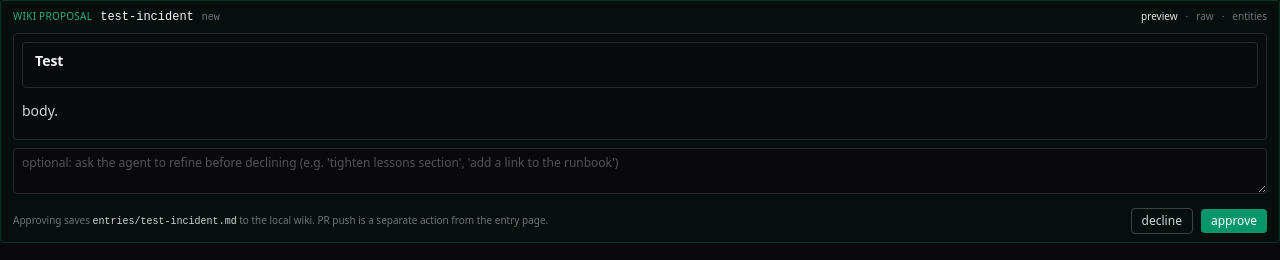
WikiProposalCard streaming behaviour › decline with notes happy path: sends notes, then declines
The image size is (1280, 260).
In the text box with placeholder "optional: ask the agent": (640, 171) [13,148,1267,194], type "tighten lessons section"
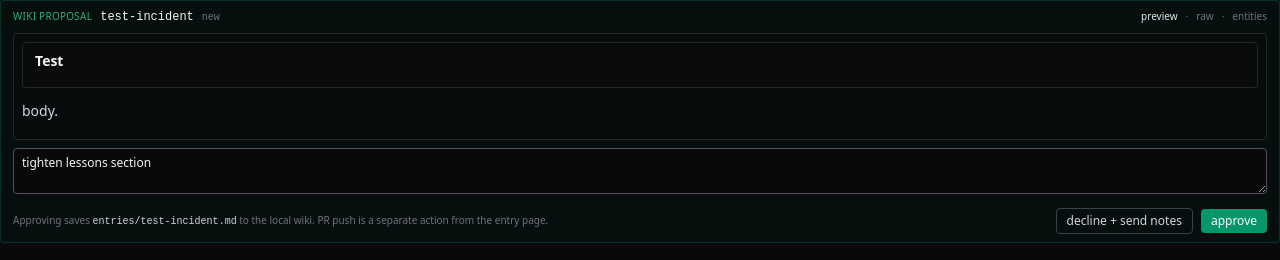
Click the button "decline + send notes": click(1124, 221) [1056,208,1193,234]
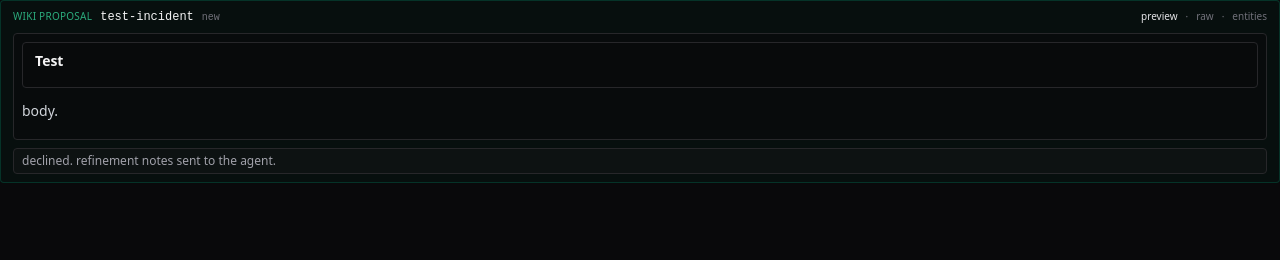
Expected: the text "declined. refinement notes sent to the agent." is shown, [13,148,1267,174]
